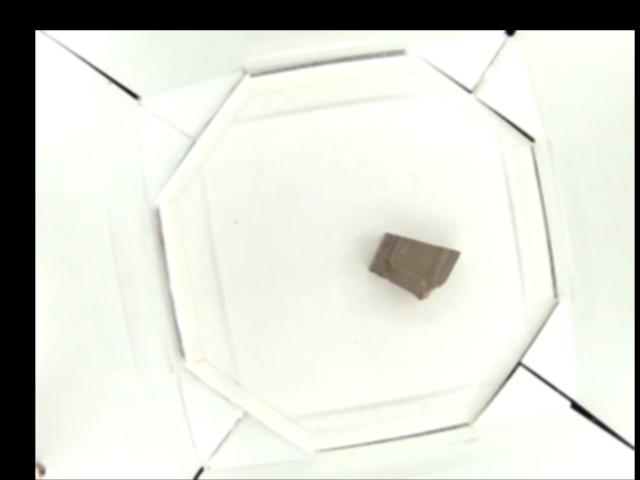China: (367, 231, 462, 303)
